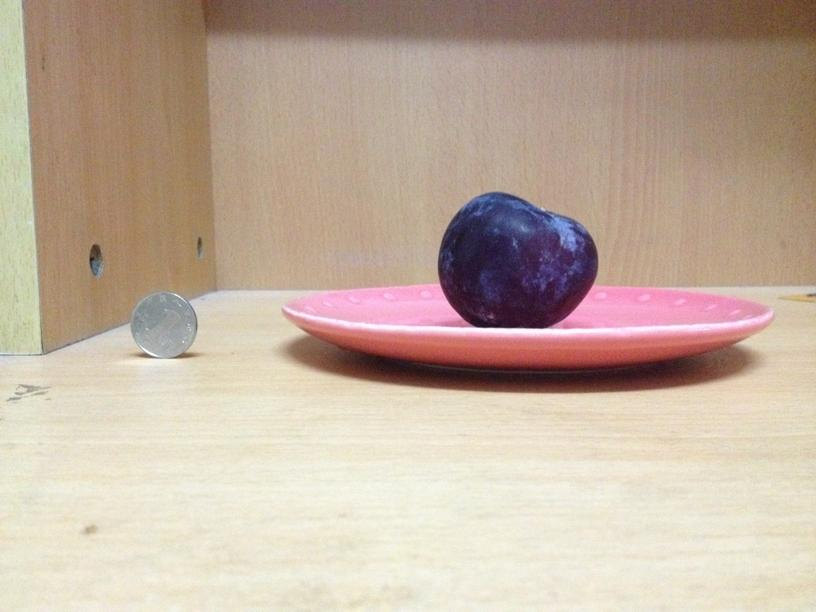coin: (125, 290, 199, 357)
plum: (437, 191, 597, 327)
